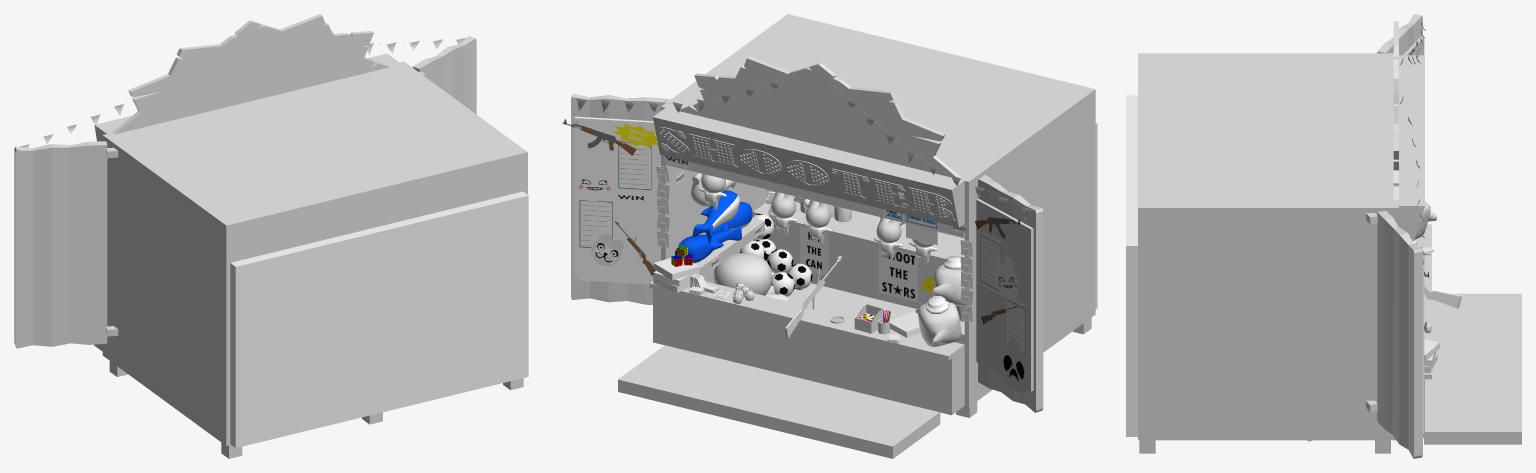
Rendered from Shooting range.fbx.
3 renders of one model, left to right at view 1: azimuth 30°, elevation 25°; view 2: azimuth 150°, elevation 25°; view 3: azimuth 270°, elevation 25°, orthographic. The views are drawn at different scales.
Parts seen in each view (by area): view 1: Cube, Cube.252, Cube.002, Curve, Cube.001; view 2: Cube, Cube.004, Curve, Cube.250, Cube.251, Text, Cube.002, Cube.001, TEXT, Cube.211, shoot thestars, TEXT.001 (+20 smaller); view 3: Cube, Cube.004, Cube.001, Cube.252, Curve, Cube.002.
Boxes of the visible parts, x1,y1,x2,y2 form: Cube: (94, 53, 527, 445); Cube.252: (230, 191, 528, 447); Cube.002: (14, 141, 107, 348); Curve: (112, 14, 389, 134); Cube.001: (412, 36, 476, 114); Cube: (649, 14, 1095, 415); Cube.004: (618, 345, 940, 458); Curve: (679, 56, 961, 177); Cube.250: (574, 116, 660, 284); Cube.251: (976, 199, 1033, 391); Text: (657, 127, 955, 221); Cube.002: (978, 176, 1043, 412); Cube.001: (571, 93, 665, 304); TEXT: (615, 137, 653, 194); Cube.211: (713, 253, 772, 295); shoot thestars: (879, 245, 917, 302); TEXT.001: (576, 195, 614, 251); Cube: (1138, 53, 1431, 440); Cube.004: (1424, 293, 1521, 444); Cube.001: (1377, 210, 1422, 458); Cube.252: (1126, 95, 1137, 436); Curve: (1393, 21, 1398, 199); Cube.002: (1377, 14, 1422, 55).
Bounding box in the file's own units: 1162 × 745 × 809.
